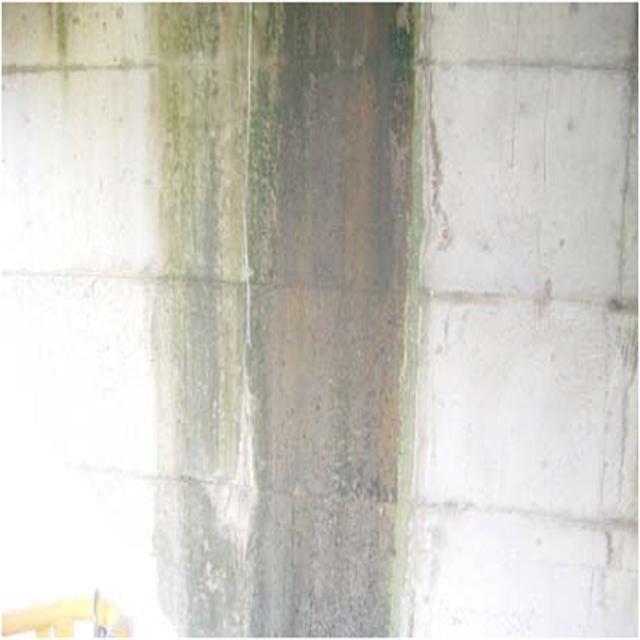freelime: (143, 1, 437, 640)
